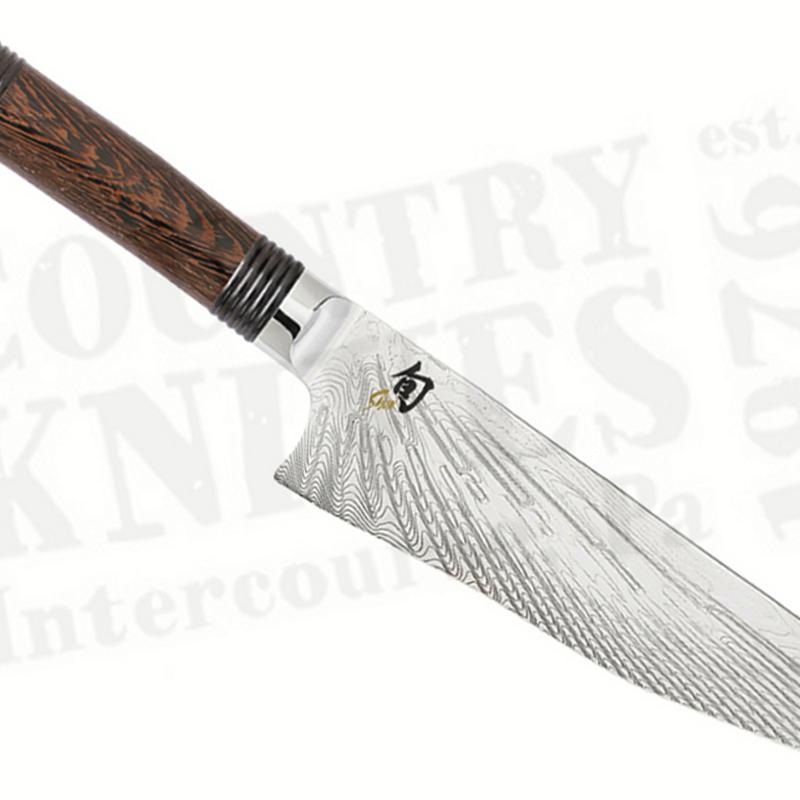knife: (1, 42, 800, 748)
